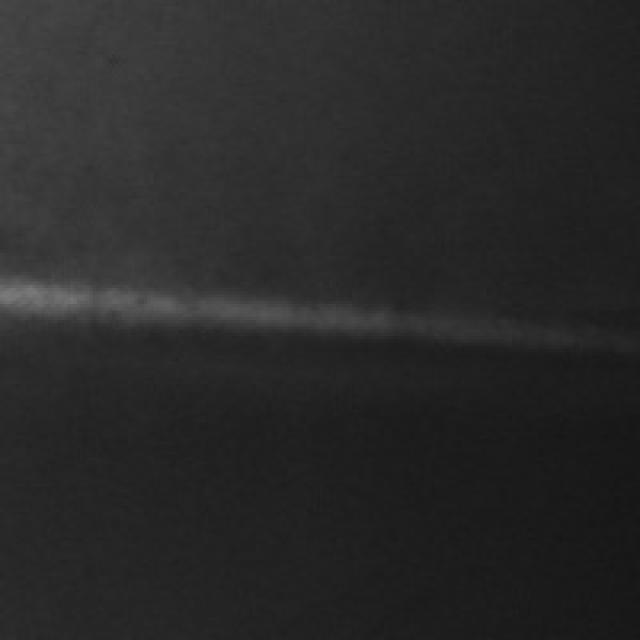scratches: (0, 266, 547, 346)
